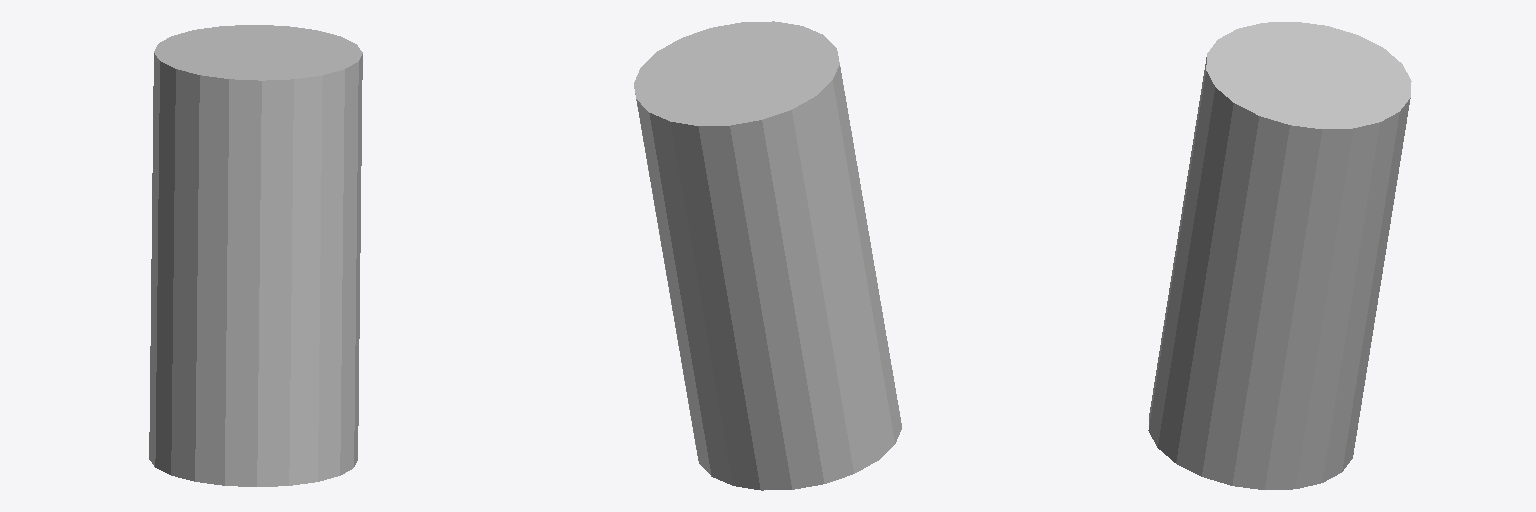
The model's file is 4distph_skin.obj.
3 renders of one model, left to right at view 1: azimuth 30°, elevation 25°; view 2: azimuth 150°, elevation 25°; view 3: azimuth 270°, elevation 25°, orthographic.
Size of the model in its own units: 0.0098 by 0.018 by 0.0105.